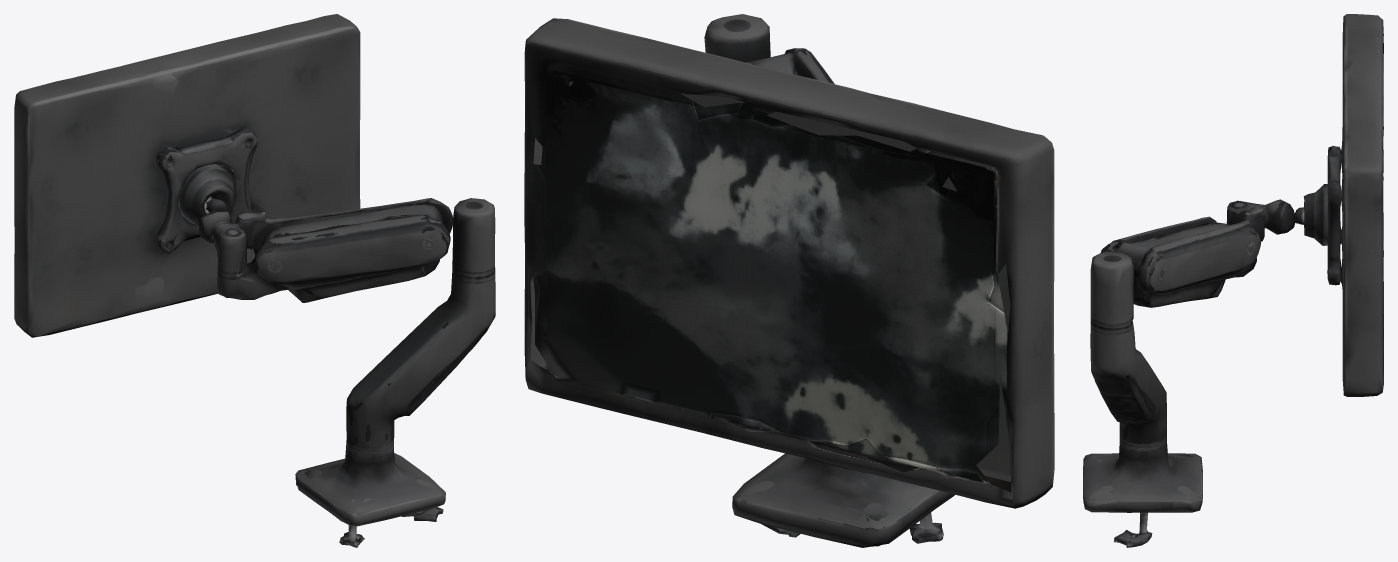
Rendered from computerlab_MonitorArm.glb.
The picture shows the model from 3 angles, left to right: view 1: azimuth 30°, elevation 25°; view 2: azimuth 150°, elevation 25°; view 3: azimuth 270°, elevation 25°; orthographic projection. The views are drawn at different scales.
Visible parts, largest first — view 1: world; view 2: world; view 3: world.
Boxes of the visible parts, box(x1,y1,x2,y2) form: world: box(14, 14, 495, 547); world: box(524, 14, 1054, 547); world: box(1083, 14, 1383, 547).
Bounding box in the file's own units: 0.8963 × 0.9996 × 0.6899.
1 material, 1 textured.
